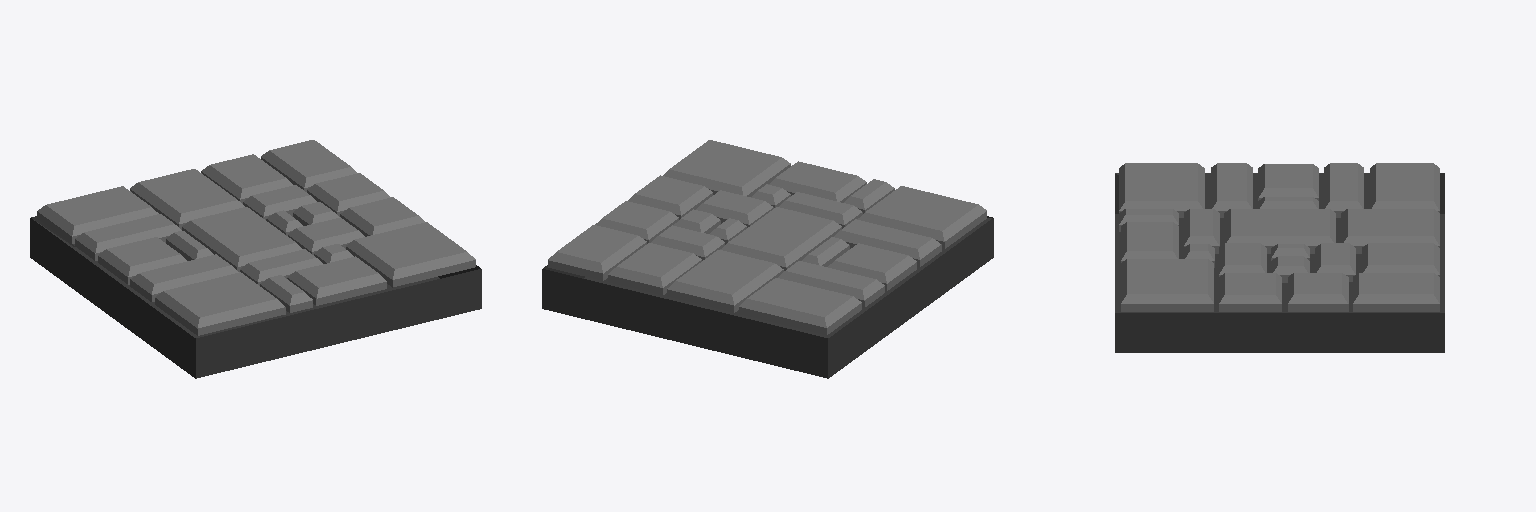
File: ModularFloor-tri.obj
The picture shows the model from 3 angles: view 1: azimuth 30°, elevation 25°; view 2: azimuth 150°, elevation 25°; view 3: azimuth 270°, elevation 25°; orthographic projection.
Parts seen in each view (by area): view 1: ModularFloor_Cube.000; view 2: ModularFloor_Cube.000; view 3: ModularFloor_Cube.000.
Boxes of the visible parts, x1,y1,x2,y2 form: ModularFloor_Cube.000: [30, 140, 481, 378]; ModularFloor_Cube.000: [542, 140, 993, 378]; ModularFloor_Cube.000: [1115, 163, 1444, 352].
Size of the model in its own units: 2 by 0.3667 by 2.